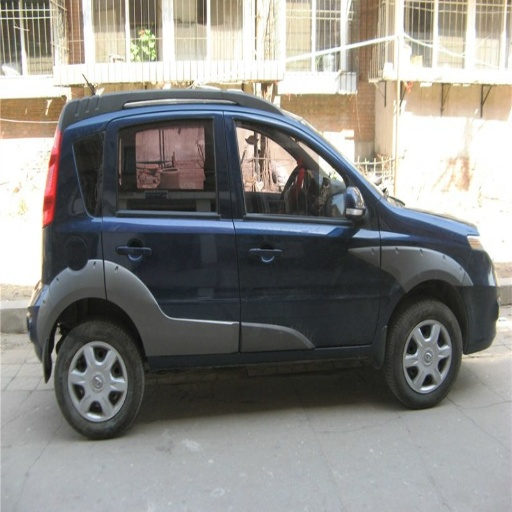back_right_door: (105, 107, 240, 371)
front_right_door: (226, 108, 380, 356)
